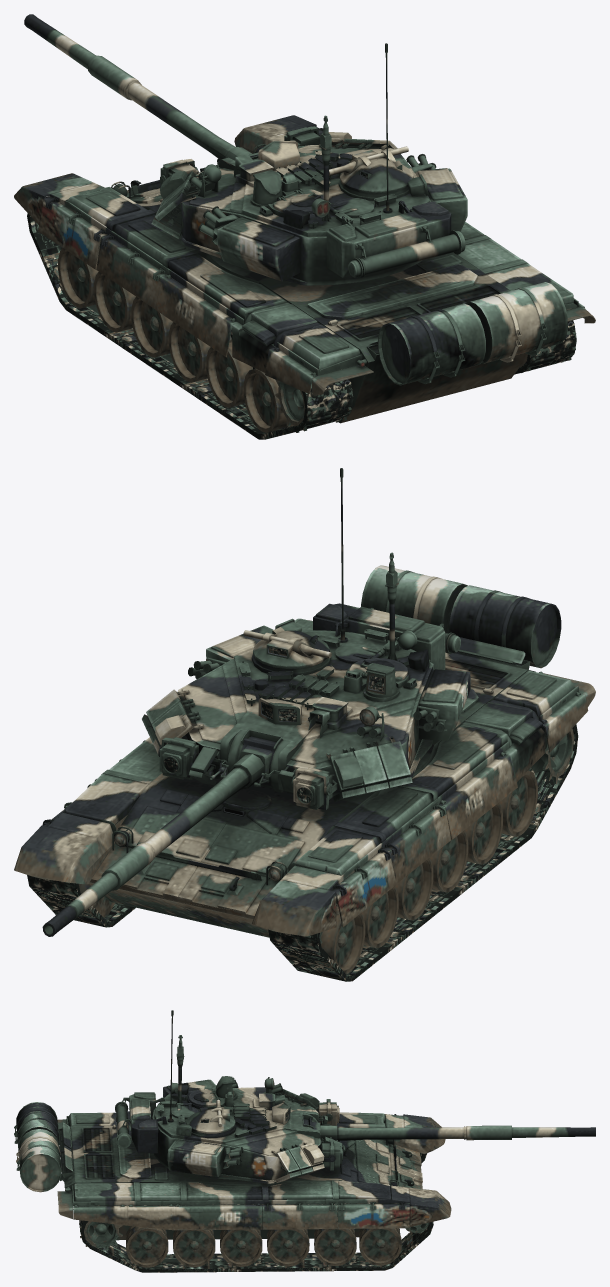
Rendered from drive_t90a.glb.
3 renders of one model, top to bottom at view 1: azimuth 30°, elevation 25°; view 2: azimuth 150°, elevation 25°; view 3: azimuth 270°, elevation 25°, orthographic. The views are drawn at different scales.
Visible parts, largest first — view 1: Object_4; view 2: Object_4; view 3: Object_4.
Part boxes in pixels (bbox=[...]): Object_4: bbox=[14, 14, 595, 439]; Object_4: bbox=[14, 468, 595, 981]; Object_4: bbox=[14, 1010, 595, 1272].
Size of the model in its own units: 3.68 by 3.94 by 9.24.
Materials: 1 (1 with a texture image).
